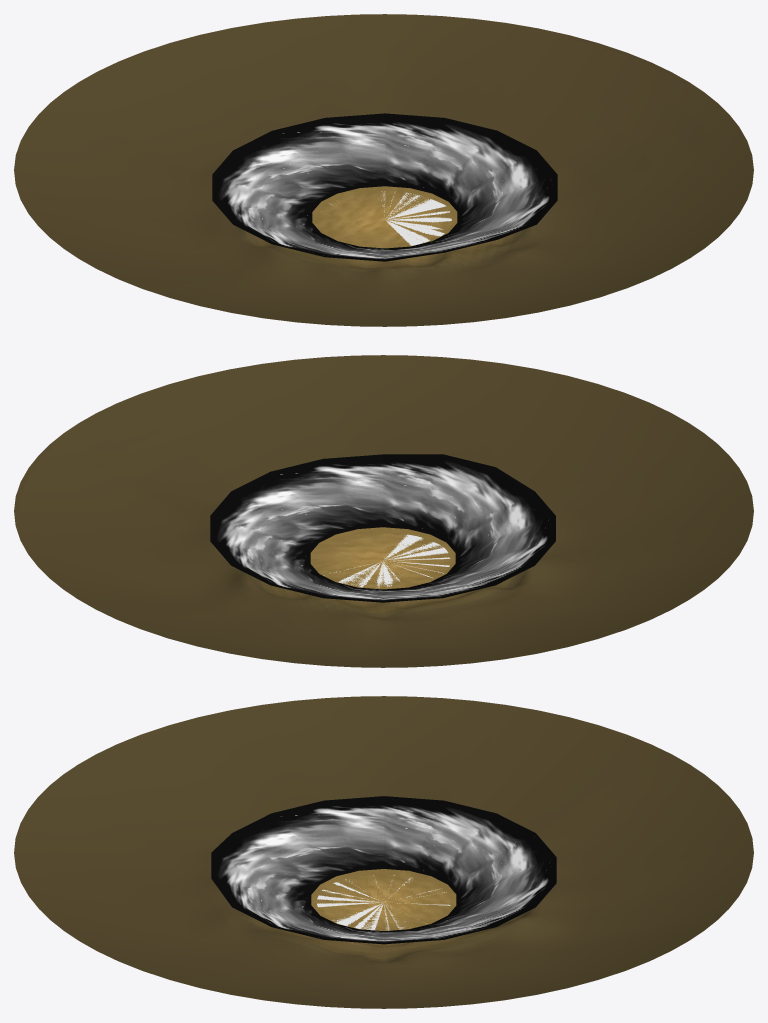
File: Terrain.fbx
3 renders of one model, top to bottom at view 1: azimuth 30°, elevation 25°; view 2: azimuth 150°, elevation 25°; view 3: azimuth 270°, elevation 25°, orthographic.
Visible parts, largest first — view 1: floor, fog, floorcollide; view 2: floor, fog, floorcollide; view 3: floor, fog, floorcollide.
Part boxes in pixels (box(x1,y1,x2,y2)): floor: box(14, 14, 753, 326); fog: box(212, 113, 557, 261); floorcollide: box(329, 191, 451, 245); floor: box(14, 355, 753, 667); fog: box(210, 454, 555, 602); floorcollide: box(324, 534, 450, 587); floor: box(14, 696, 753, 1008); fog: box(211, 796, 556, 944); floorcollide: box(317, 875, 450, 930).
Size of the model in its own units: 270 by 20.06 by 270.
3 materials, 2 textured.
